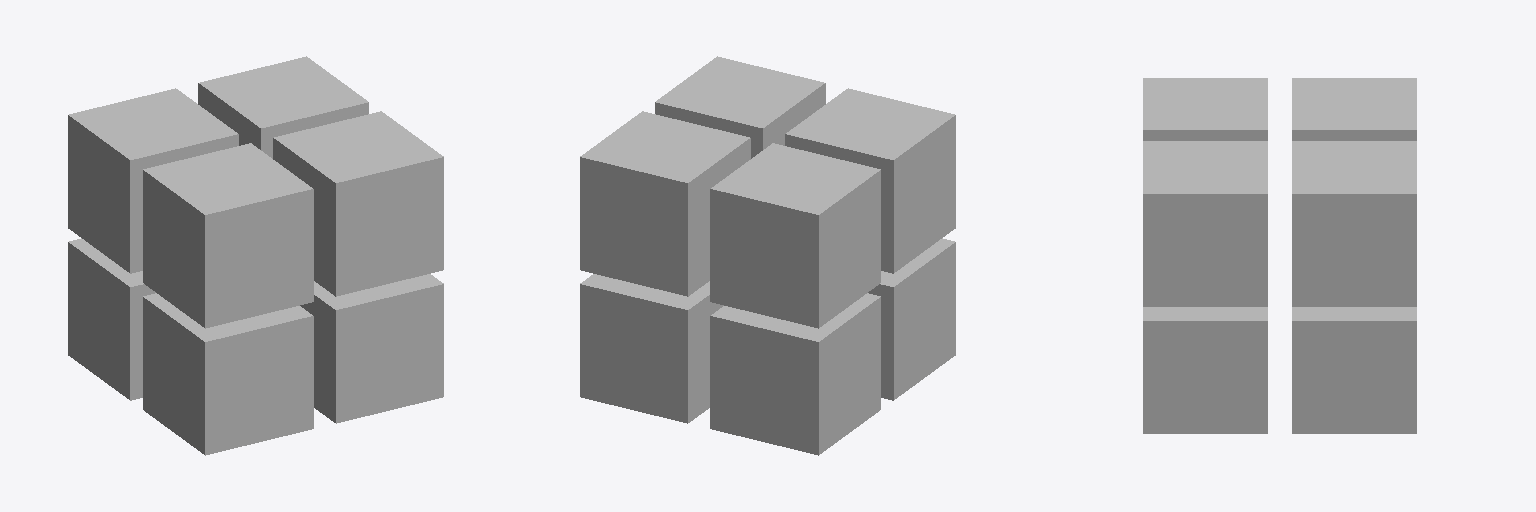
The model's file is fullfillment.obj.
3 views of the same model, side by side, from view 1: azimuth 30°, elevation 25°; view 2: azimuth 150°, elevation 25°; view 3: azimuth 270°, elevation 25° (orthographic).
Visible parts, largest first — view 1: Cube; view 2: Cube; view 3: Cube.
Boxes of the visible parts, x1=… form: Cube: x1=68, y1=56, x2=443, y2=455; Cube: x1=580, y1=56, x2=955, y2=455; Cube: x1=1143, y1=78, x2=1416, y2=433.
Size of the model in its own units: 5.28 by 5.08 by 5.26.